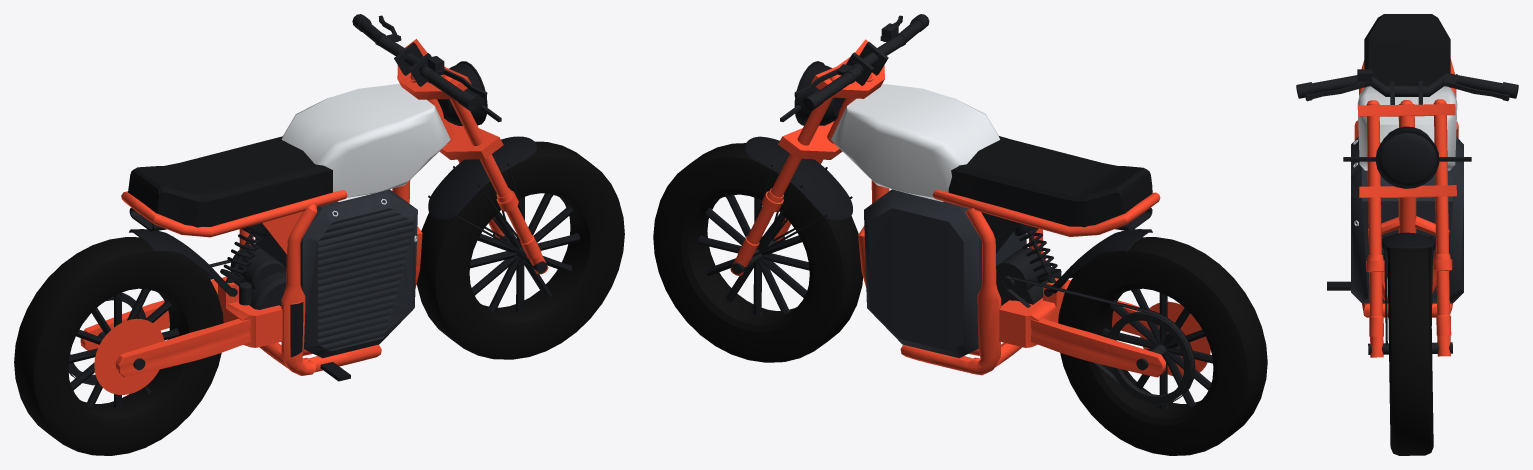
The model's file is road.glb.
The picture shows the model from 3 angles, left to right: view 1: azimuth 30°, elevation 25°; view 2: azimuth 150°, elevation 25°; view 3: azimuth 270°, elevation 25°; orthographic projection. The views are drawn at different scales.
Parts seen in each view (by area): view 1: Front_tire_2, Front_tire, Boole, tank, seat, Cube_5, Null_1, Subdivision_Surface_1, Disc, Cylinder_7, Cylinder_5, motor_base (+10 smaller); view 2: Front_tire_2, Front_tire, Boole, tank, seat, Cube_5, Subdivision_Surface_1, Null_1, Cylinder_7, Cylinder_5, motor_base, Tube_2_2 (+11 smaller); view 3: Front_tire, Cylinder_7, Boole, seat, Cylinder_5_2, tank, Cylinder, Cube_3_5, Cube_3_6, Cylinder_3_2, Subdivision_Surface_1, Cube_3_4 (+8 smaller).
Boxes of the visible parts, <box> form: Front_tire_2: <box>14,237,223,455</box>; Front_tire: <box>416,141,624,359</box>; Boole: <box>255,189,417,358</box>; tank: <box>281,83,450,201</box>; seat: <box>128,136,332,227</box>; Cube_5: <box>80,300,250,377</box>; Null_1: <box>239,204,317,375</box>; Subdivision_Surface_1: <box>428,136,536,220</box>; Disc: <box>94,319,164,394</box>; Cylinder_7: <box>442,75,548,274</box>; Cylinder_5: <box>121,190,347,237</box>; motor_base: <box>211,276,282,347</box>; Front_tire_2: <box>1058,237,1267,455</box>; Front_tire: <box>653,143,862,362</box>; Boole: <box>864,189,1026,358</box>; tank: <box>831,83,999,201</box>; seat: <box>948,136,1152,227</box>; Cube_5: <box>1031,300,1165,377</box>; Subdivision_Surface_1: <box>744,136,852,220</box>; Null_1: <box>965,208,1046,375</box>; Cylinder_7: <box>730,74,840,275</box>; Cylinder_5: <box>933,190,1160,236</box>; motor_base: <box>999,278,1070,347</box>; Tube_2_2: <box>1108,311,1191,403</box>; Front_tire: <box>1387,247,1433,455</box>; Cylinder_7: <box>1366,99,1452,357</box>; Boole: <box>1351,136,1463,303</box>; seat: <box>1364,14,1450,87</box>; Cylinder_5_2: <box>1375,126,1439,188</box>; tank: <box>1357,86,1457,170</box>; Cylinder: <box>1312,72,1502,96</box>; Cube_3_5: <box>1358,104,1455,116</box>; Cube_3_6: <box>1359,185,1456,197</box>; Cylinder_3_2: <box>1368,216,1449,300</box>; Subdivision_Surface_1: <box>1382,232,1435,251</box>; Cube_3_4: <box>1305,82,1509,101</box>.
Bounding box in the file's own units: 2.02 × 1.09 × 0.6771.
